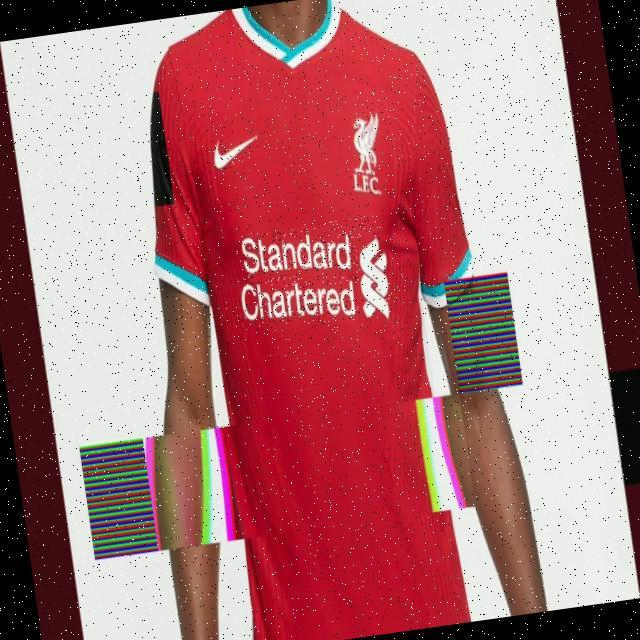Nike: (213, 137, 262, 170)
Standard Chartered: (234, 214, 394, 334)
